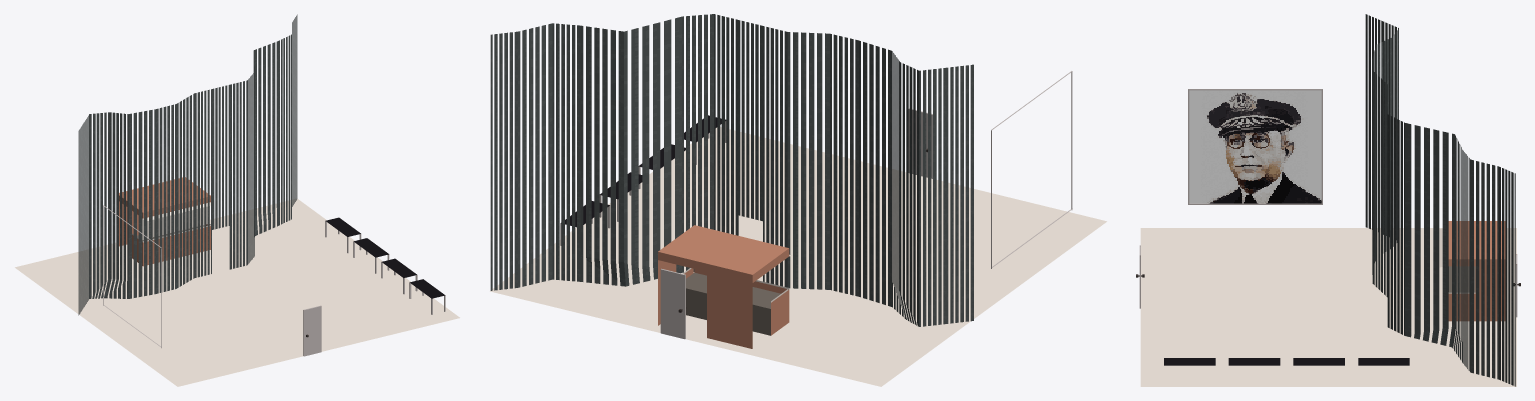
3 renders of one model, left to right at view 1: azimuth 30°, elevation 25°; view 2: azimuth 150°, elevation 25°; view 3: azimuth 270°, elevation 25°, orthographic. The views are drawn at different scales.
Bounding box in the file's own units: 16.08 × 10.02 × 16.37.
Materials: 2 (2 with a texture image).
